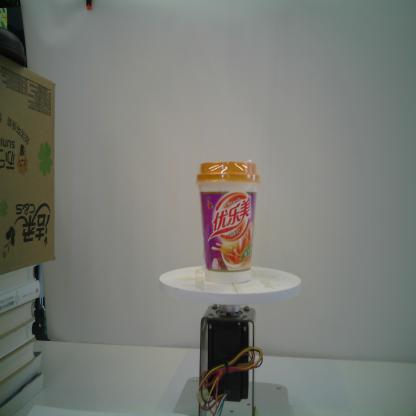Instant Drink: (197, 158, 261, 285)
